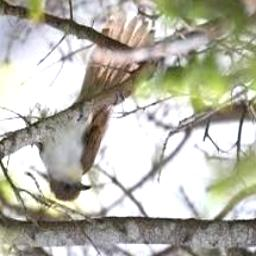Cuckoo: (38, 14, 156, 203)
